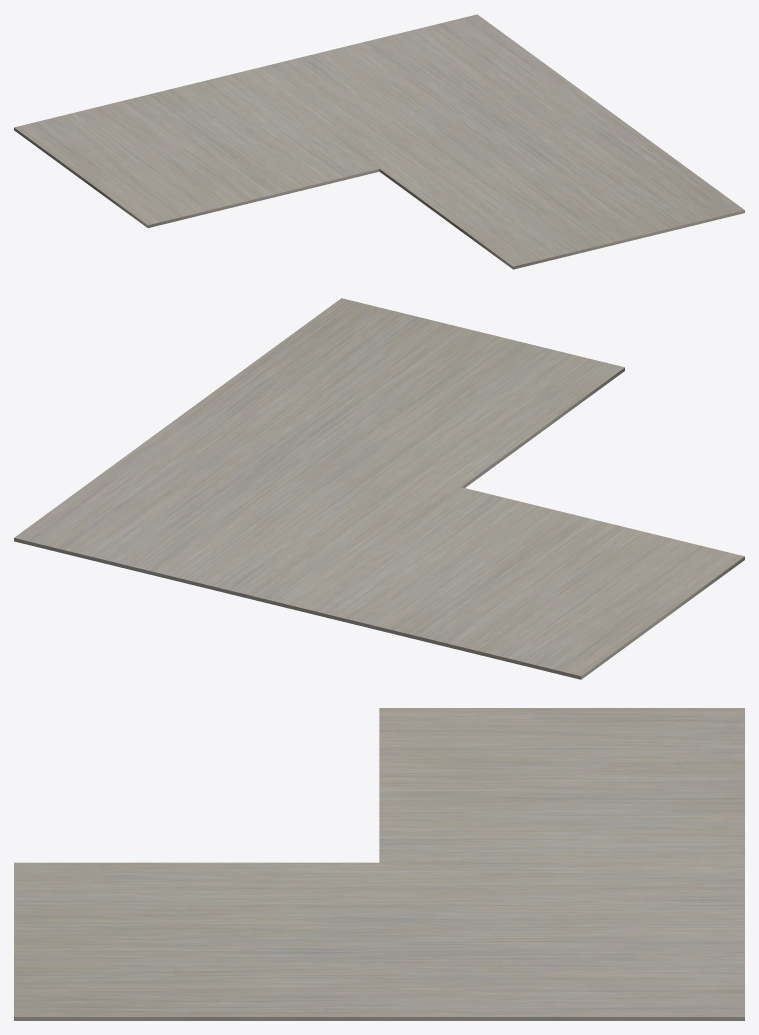
Rendered from Stage1_1f_base.FBX.
3 renders of one model, top to bottom at view 1: azimuth 30°, elevation 25°; view 2: azimuth 150°, elevation 25°; view 3: azimuth 270°, elevation 25°, orthographic. The views are drawn at different scales.
Visible parts, largest first — view 1: Box001; view 2: Box001; view 3: Box001.
Part boxes in pixels (x1,y1,x2,y2): Box001: [14, 14, 744, 269]; Box001: [14, 298, 744, 679]; Box001: [14, 708, 744, 1020].
Size of the model in its own units: 5000 by 30 by 5000.
1 material, 1 textured.
